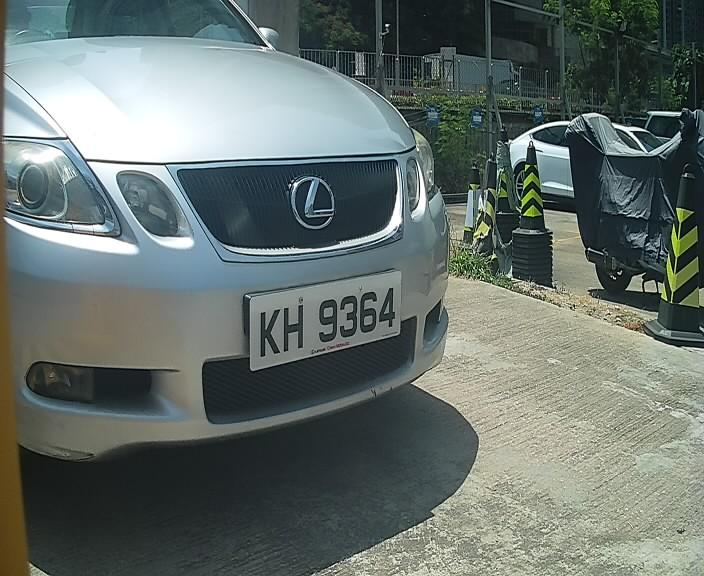License Plate: (236, 268, 397, 376)
